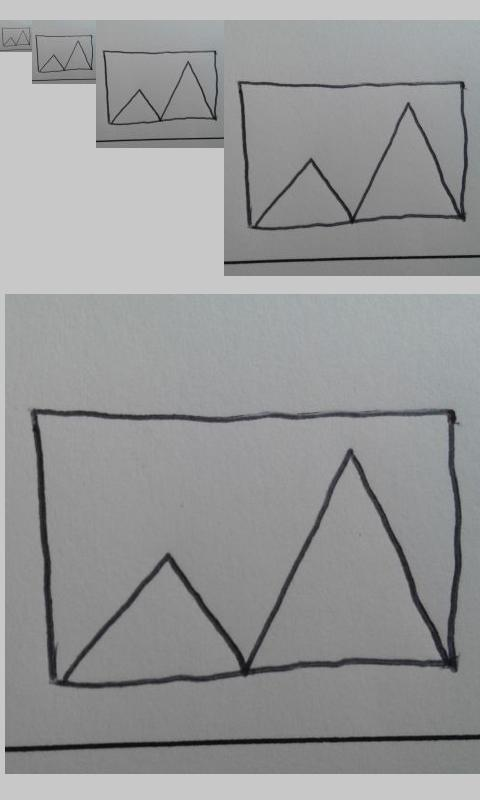image_view: (33, 405, 462, 692), (236, 74, 470, 235), (103, 49, 219, 126), (35, 34, 94, 73), (1, 27, 31, 47)
